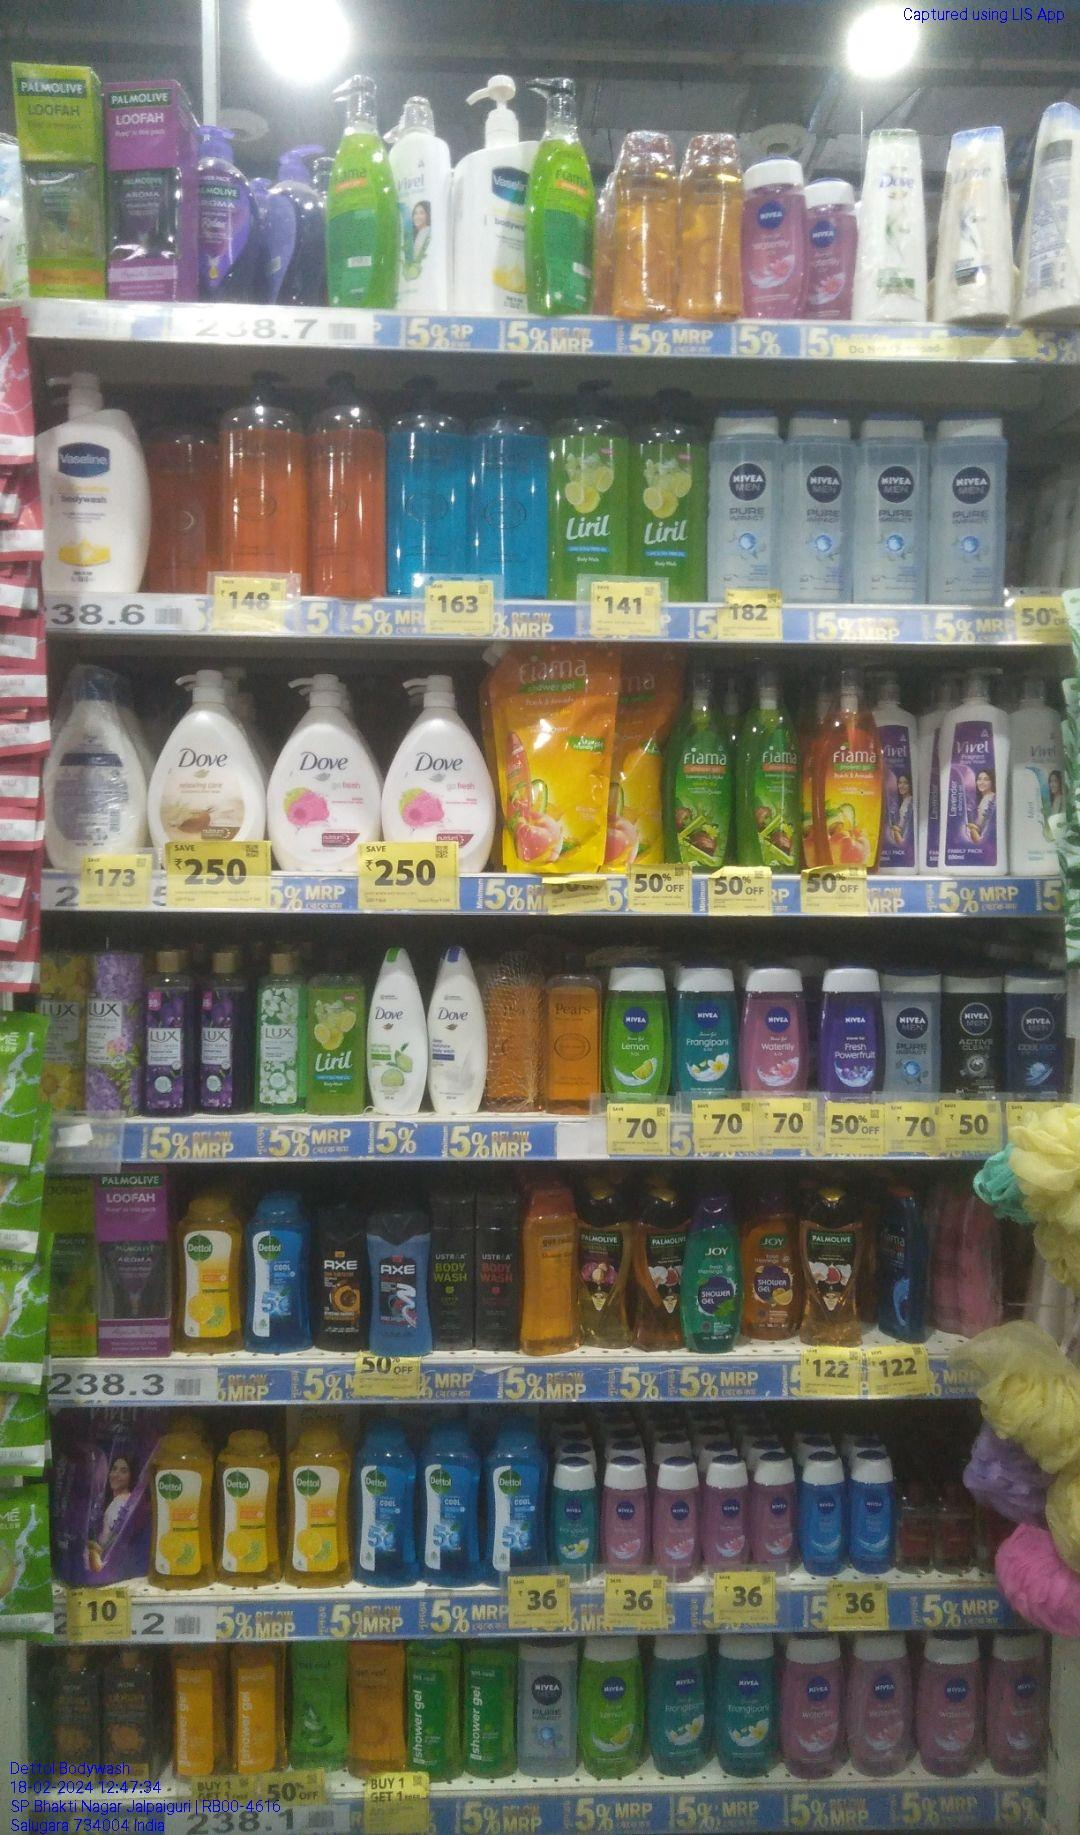Dettol_Bodywash_Cool: (356, 1420, 420, 1590), (244, 1182, 306, 1352), (423, 1421, 482, 1588), (483, 1426, 545, 1582)
Dettol_Bodywash_Refresh: (174, 1191, 244, 1354), (285, 1424, 350, 1590), (149, 1432, 213, 1592), (216, 1430, 280, 1588)
Dove_Deep_Moisture_Body_Wash_250ML: (431, 947, 483, 1115)
Dove_Refreshing_Body_Wash_250ML: (370, 946, 427, 1112)
Get_Real_Shower_Gel_Moisturising_Glycerin_300ML: (519, 1187, 581, 1360), (350, 1640, 411, 1775)
Joy_Shower_Gel_Mandarin_and_Lemongrass_250ML: (739, 1183, 798, 1336)
Joy_Shower_Gel_Mint_and_Eucalyptus_250ML: (681, 1190, 741, 1354)
Liril_Lime_and_Tea_Tree_Oil_Body_Wash_250ML: (309, 950, 366, 1115)
Lux_Black_Orchid_Scent_and_Juniper_Oil_Body_Wash_245ML: (190, 951, 253, 1113), (147, 950, 186, 1112)
Lux_Body_Wash_Skin_Detox_Freesia_Scent_and_Alove_Vera_245ML: (256, 947, 306, 1113)
Nivea_Shower_Gel_Frangipani_and_Oil_250ML: (652, 1635, 715, 1777), (720, 1635, 778, 1775), (678, 964, 733, 1096)
Nivea_Shower_Gel_Fresh_Powerfruit_250ML: (815, 970, 878, 1092)
Nivea_Shower_Gel_Lemon_and_Oil_250ML: (579, 1636, 649, 1780), (608, 965, 666, 1097)
Nivea_Shower_Gel_Waterlily_and_Oil_250ML: (741, 152, 805, 320), (851, 1629, 919, 1780), (782, 1633, 847, 1782), (990, 1628, 1052, 1786), (922, 1629, 984, 1778), (741, 968, 810, 1092)
Palmolive_Luminous_Oils_With_White_Orchid_Shower_Gel_250ML: (802, 1186, 865, 1349)
